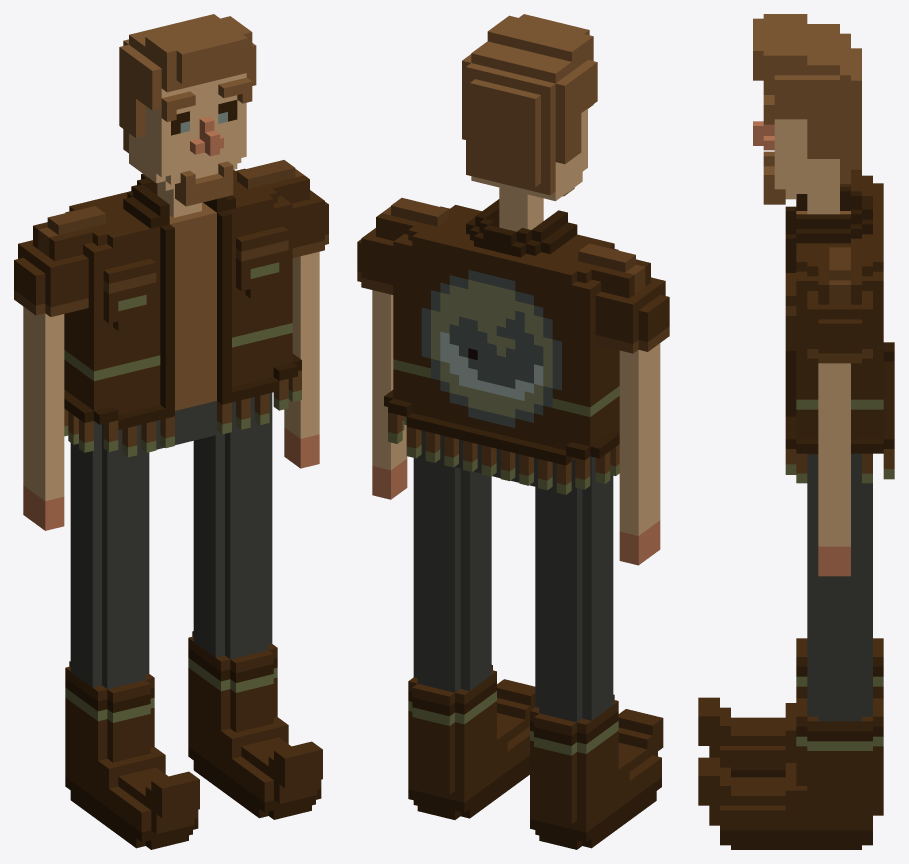
Rendered from long_man02.obj.
3 renders of one model, left to right at view 1: azimuth 30°, elevation 25°; view 2: azimuth 150°, elevation 25°; view 3: azimuth 270°, elevation 25°, orthographic.
Bounding box in the file's own units: 31 × 78 × 18.
1 material, 1 textured.
